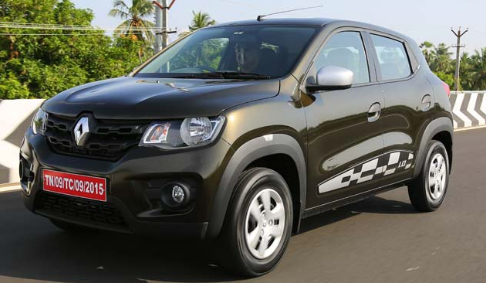car: (19, 16, 455, 276)
